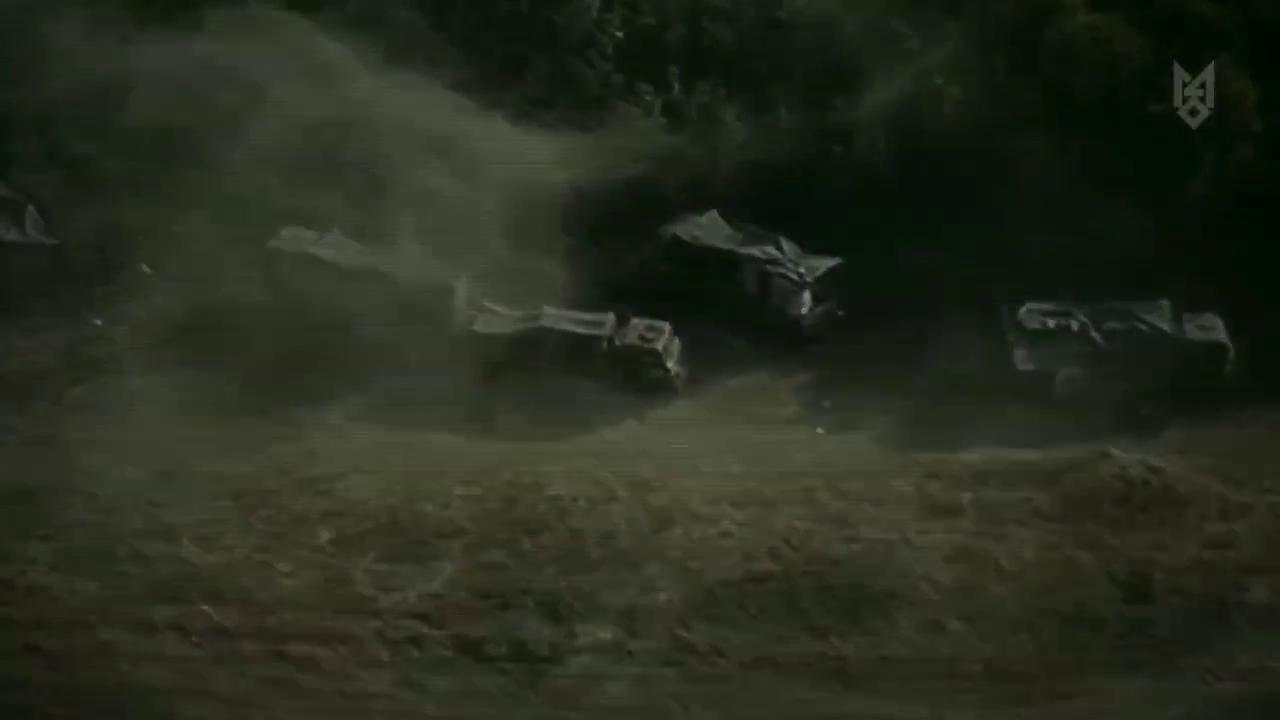tank: (637, 207, 868, 343), (261, 223, 471, 357), (1004, 295, 1237, 415), (470, 296, 683, 400)
